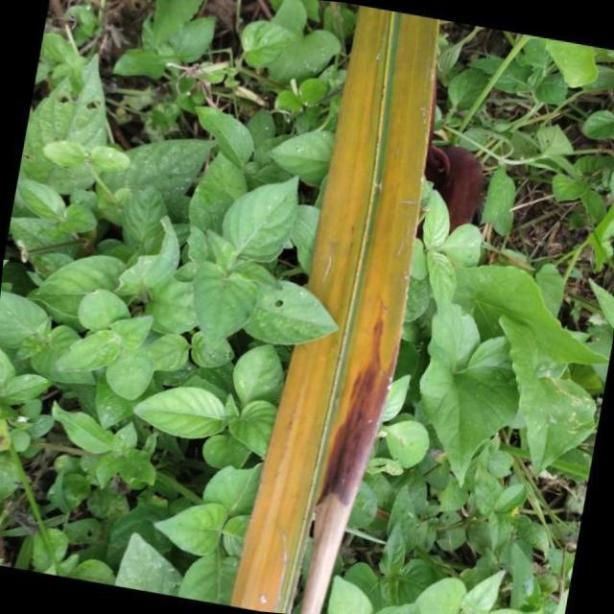Megnesium: (229, 0, 436, 614)
